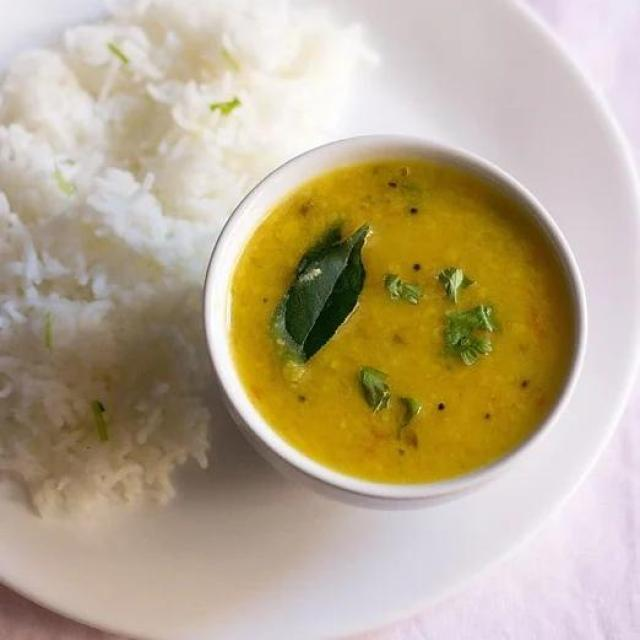dal: (229, 163, 573, 487)
rice: (4, 0, 363, 504)
